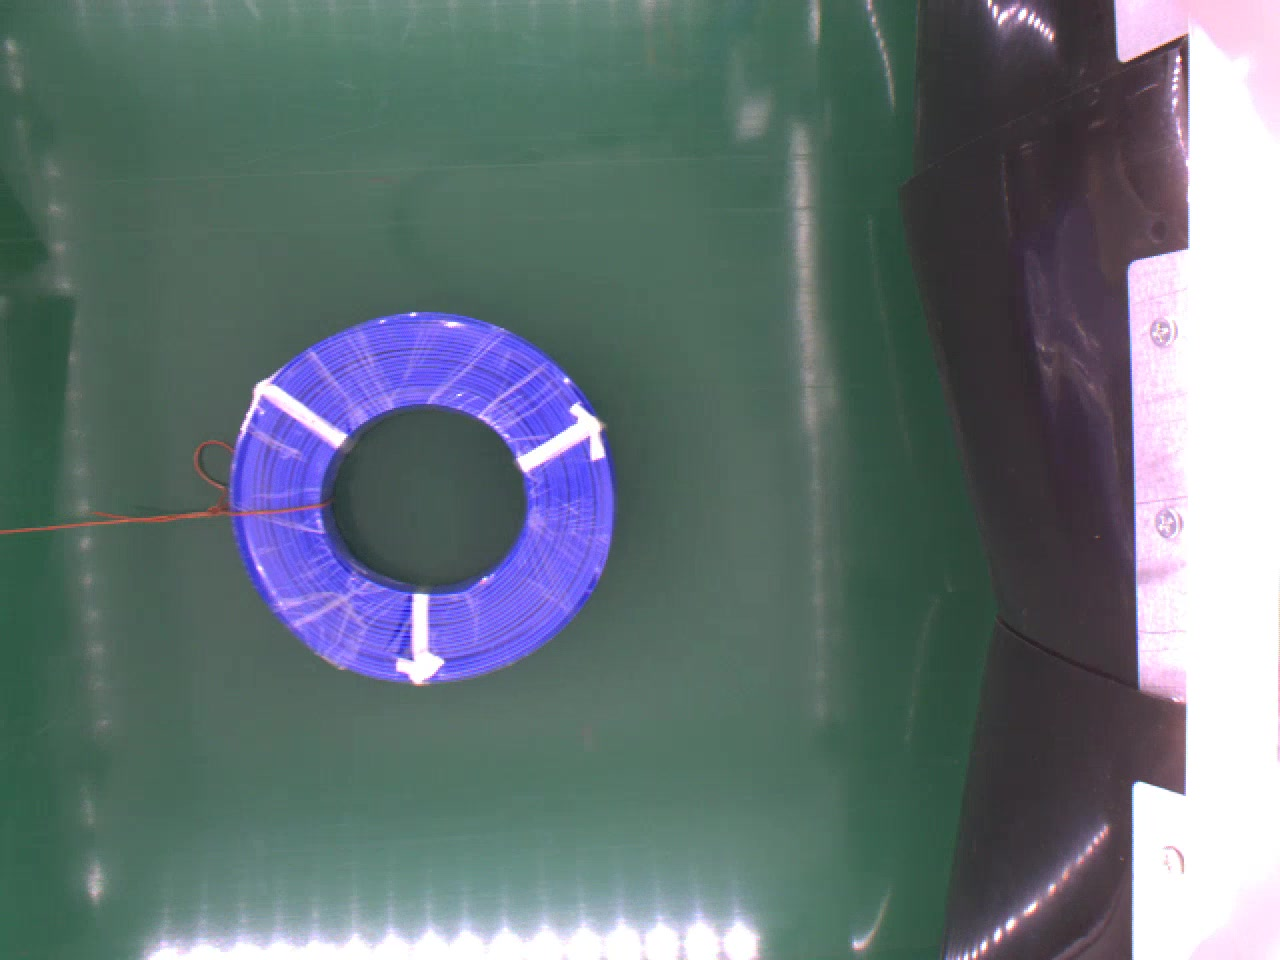blue: (228, 305, 619, 683)
